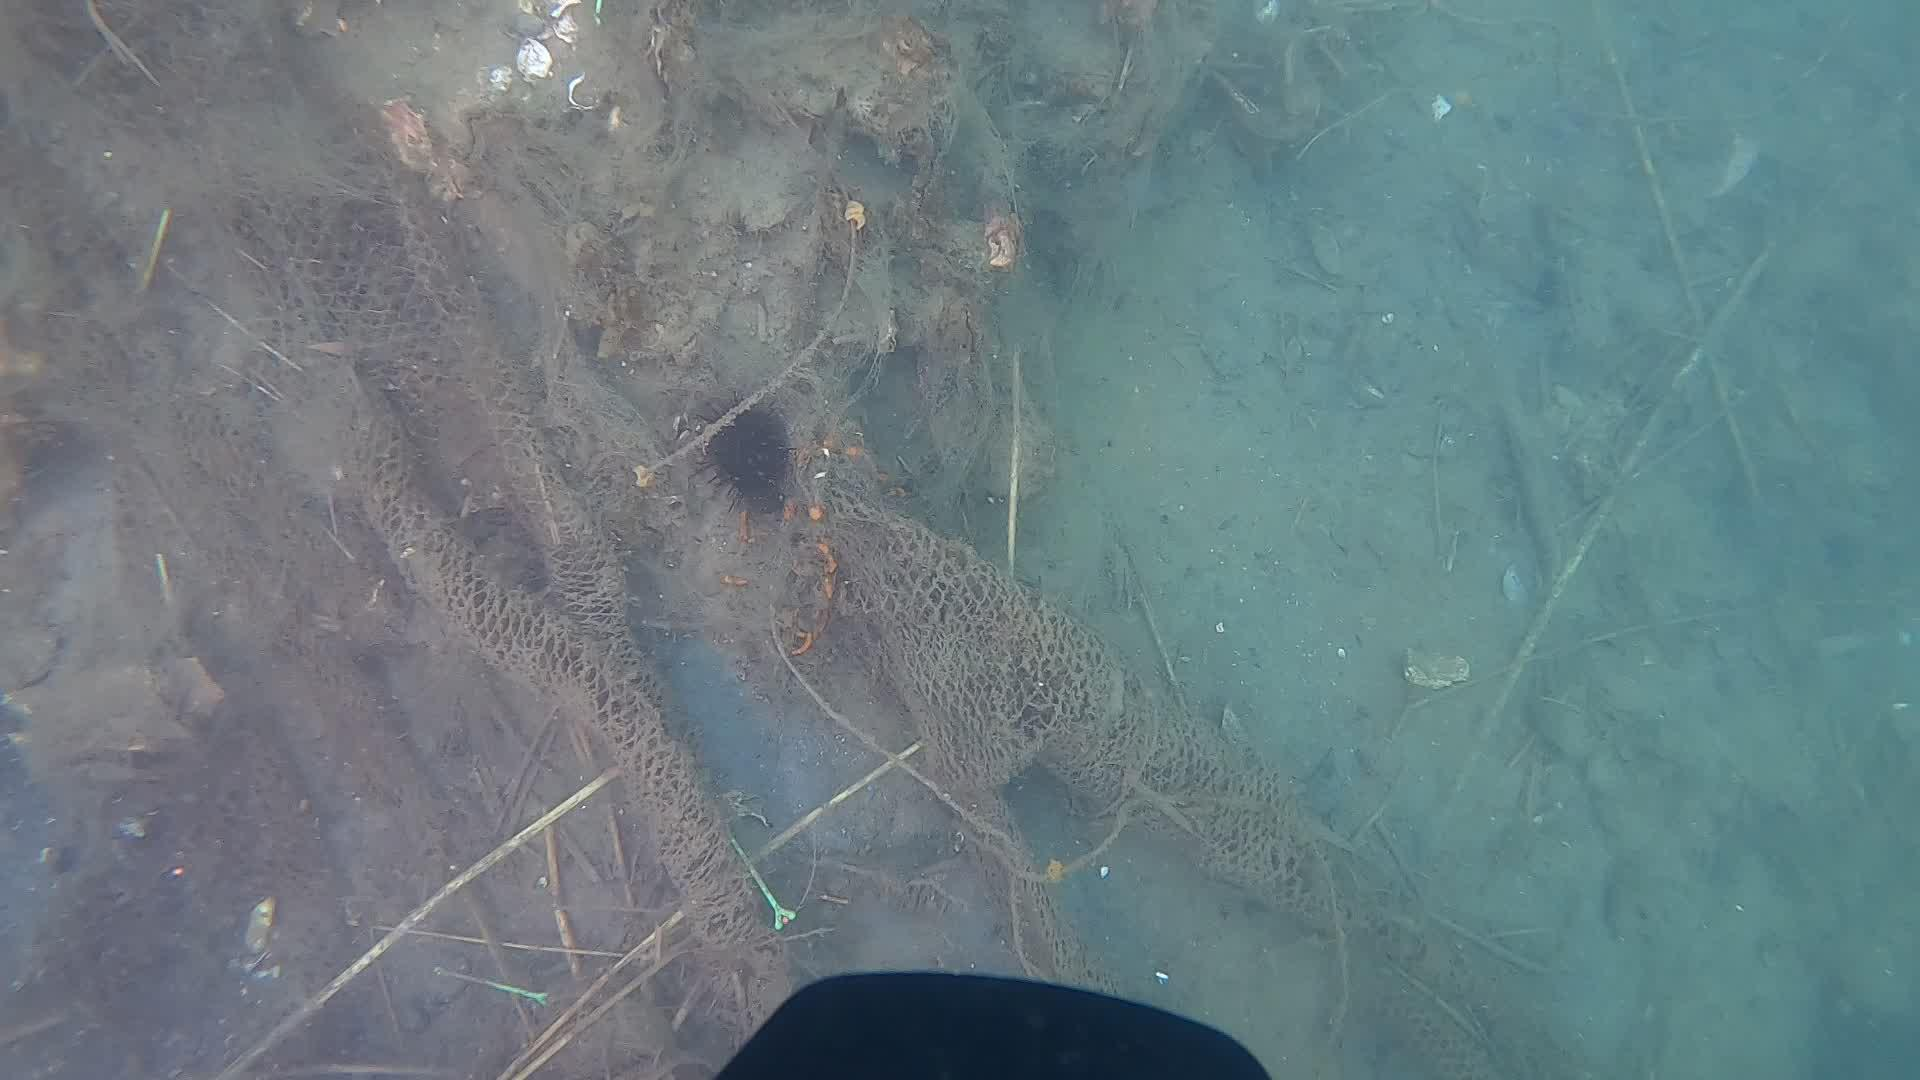fish net: (251, 195, 767, 957), (820, 487, 1304, 994)
